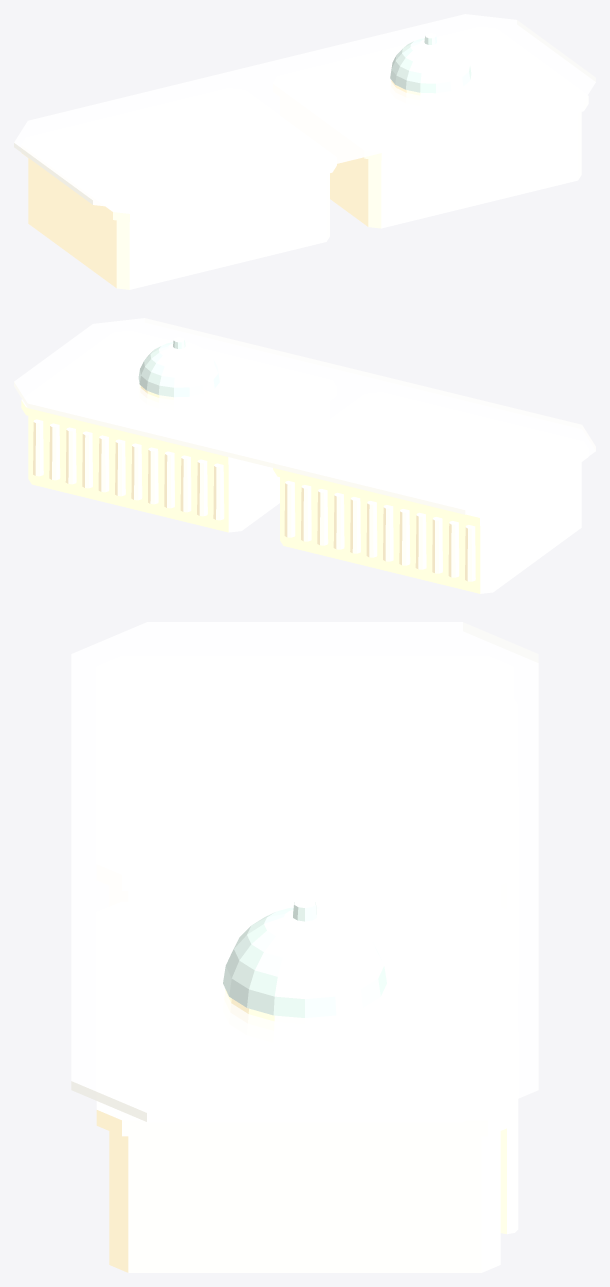
File: national-gallery.glb
The picture shows the model from 3 angles, top to bottom: view 1: azimuth 30°, elevation 25°; view 2: azimuth 150°, elevation 25°; view 3: azimuth 270°, elevation 25°; orthographic projection. The views are drawn at different scales.
Visible parts, largest first — view 1: canopy, wing-0, wing-1, dome, cornice-0, cornice-1, drum; view 2: canopy, wing-0, wing-1, colonnade-1, colonnade-0, dome, cornice-0, cornice-1, drum; view 3: canopy, wing-1, dome, cornice-1, drum, colonnade-1.
Boxes of the visible parts, x1,y1,x2,y2 form: canopy: (14, 14, 595, 210); wing-0: (28, 158, 329, 289); wing-1: (330, 112, 581, 228); dome: (390, 38, 471, 93); cornice-0: (22, 153, 336, 221); cornice-1: (363, 95, 588, 160); drum: (391, 80, 470, 100); canopy: (14, 318, 595, 514); wing-0: (280, 462, 581, 593); wing-1: (28, 416, 279, 532); colonnade-1: (33, 419, 224, 520); colonnade-0: (284, 480, 475, 581); dome: (138, 342, 219, 397); cornice-0: (273, 457, 587, 525); cornice-1: (21, 399, 246, 464); drum: (139, 384, 218, 404); canopy: (71, 622, 538, 1122); wing-1: (109, 1131, 500, 1272); dome: (223, 907, 386, 1017); cornice-1: (96, 1101, 513, 1136); drum: (224, 989, 385, 1033); colonnade-1: (500, 1099, 518, 1234).
Bounding box in the file's own units: 184 × 46.4 × 74.
